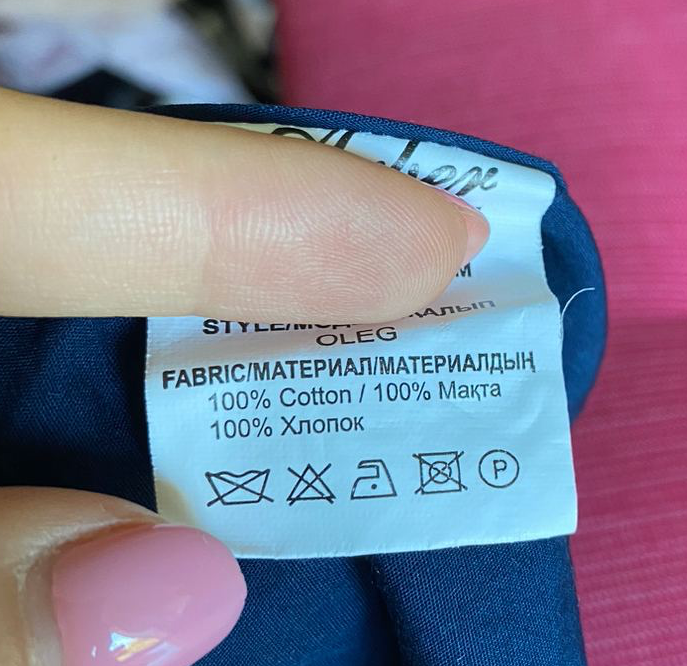do_not_bleach: (282, 455, 340, 509)
do_not_tumble_drying: (408, 444, 472, 498)
do_not_wash: (199, 461, 277, 514)
dry_clean_tetrachloroethylene_pce_only: (476, 446, 522, 491)
ironing_at_low_temp: (345, 450, 400, 506)
